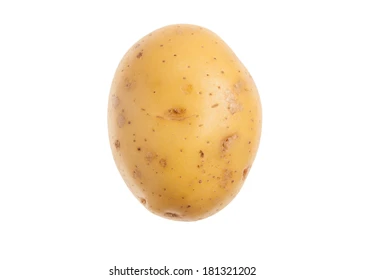potato: (104, 17, 265, 226)
